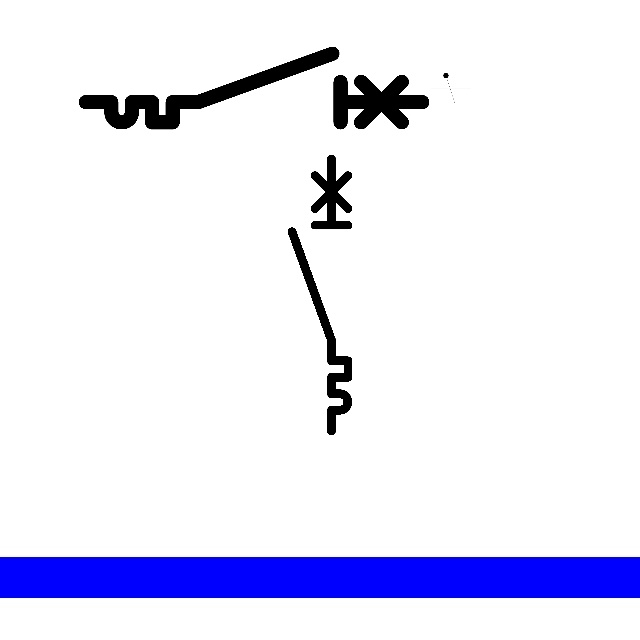interruptor_termomagnetico: (77, 45, 431, 131), (285, 152, 355, 438)
